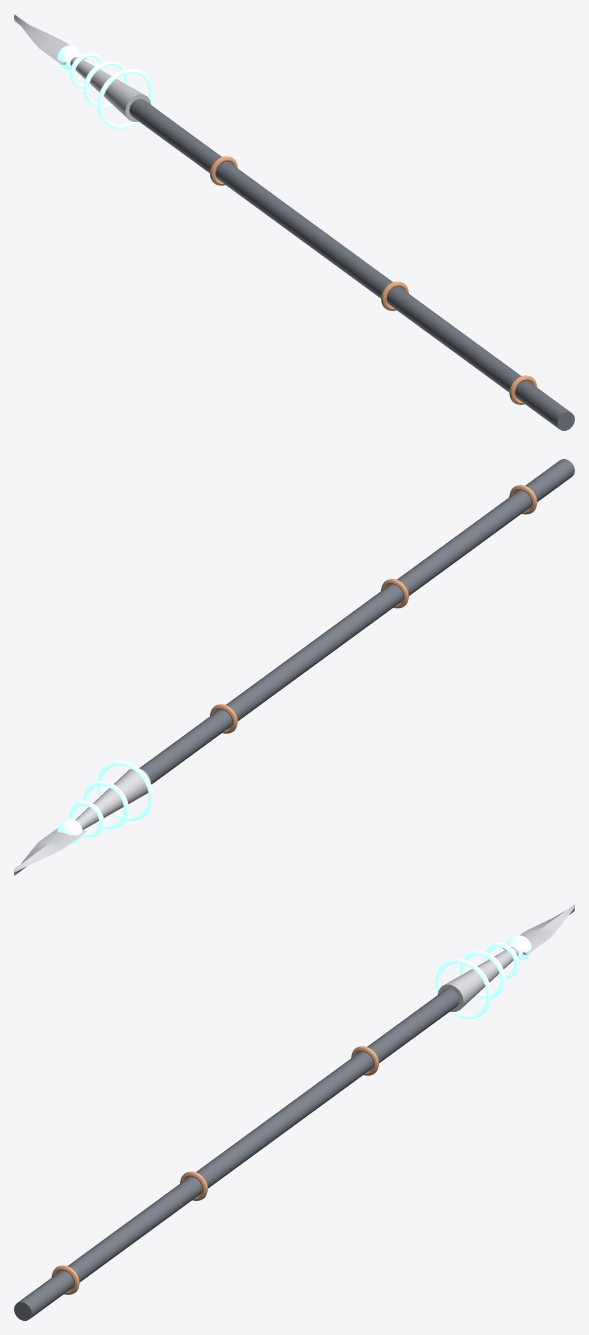
The model's file is lanza_antena.glb.
3 views of the same model, one above another, from view 1: azimuth 30°, elevation 25°; view 2: azimuth 150°, elevation 25°; view 3: azimuth 330°, elevation 25° (orthographic).
Parts seen in each view (by area): view 1: lanza_antena; view 2: lanza_antena; view 3: lanza_antena.
Boxes of the visible parts, x1,y1,x2,y2 form: lanza_antena: (14,14,574,430); lanza_antena: (14,459,574,875); lanza_antena: (14,904,574,1320).
Bounding box in the file's own units: 0.152 × 0.152 × 2.58.
